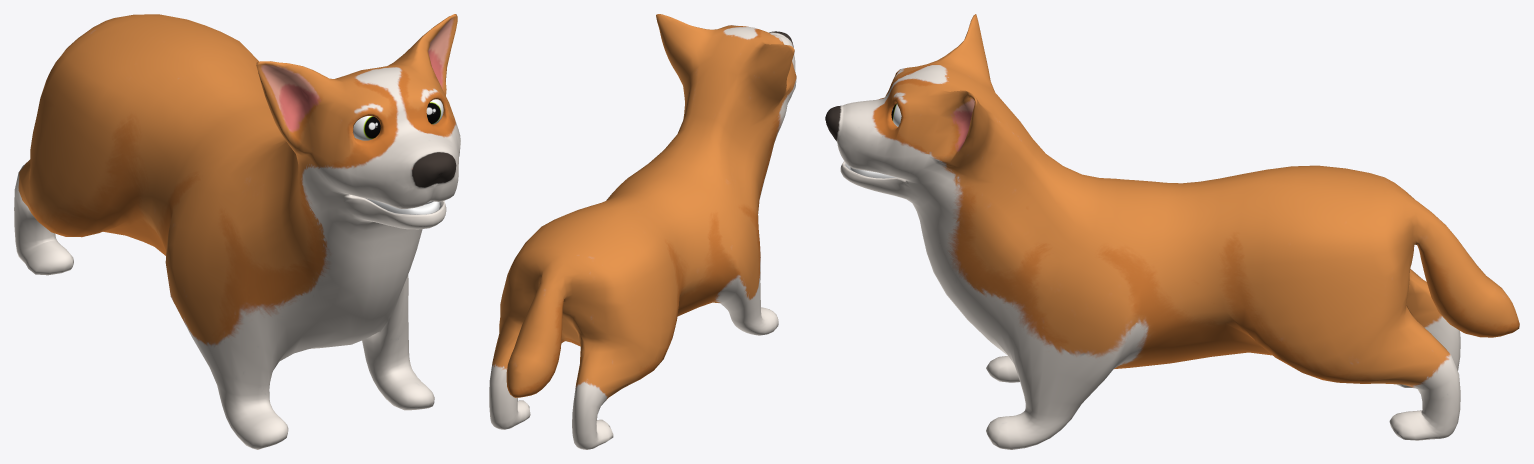
Rendered from dog.glb.
The picture shows the model from 3 angles, left to right: view 1: azimuth 30°, elevation 25°; view 2: azimuth 150°, elevation 25°; view 3: azimuth 270°, elevation 25°; orthographic projection. The views are drawn at different scales.
Visible parts, largest first — view 1: Dog_geo; view 2: Dog_geo; view 3: Dog_geo.
Part boxes in pixels (bbox=[...]): Dog_geo: bbox=[14, 14, 460, 449]; Dog_geo: bbox=[489, 14, 796, 449]; Dog_geo: bbox=[825, 14, 1519, 449].
Size of the model in its own units: 1.59 by 2.78 by 4.92.
4 materials, 4 textured.
